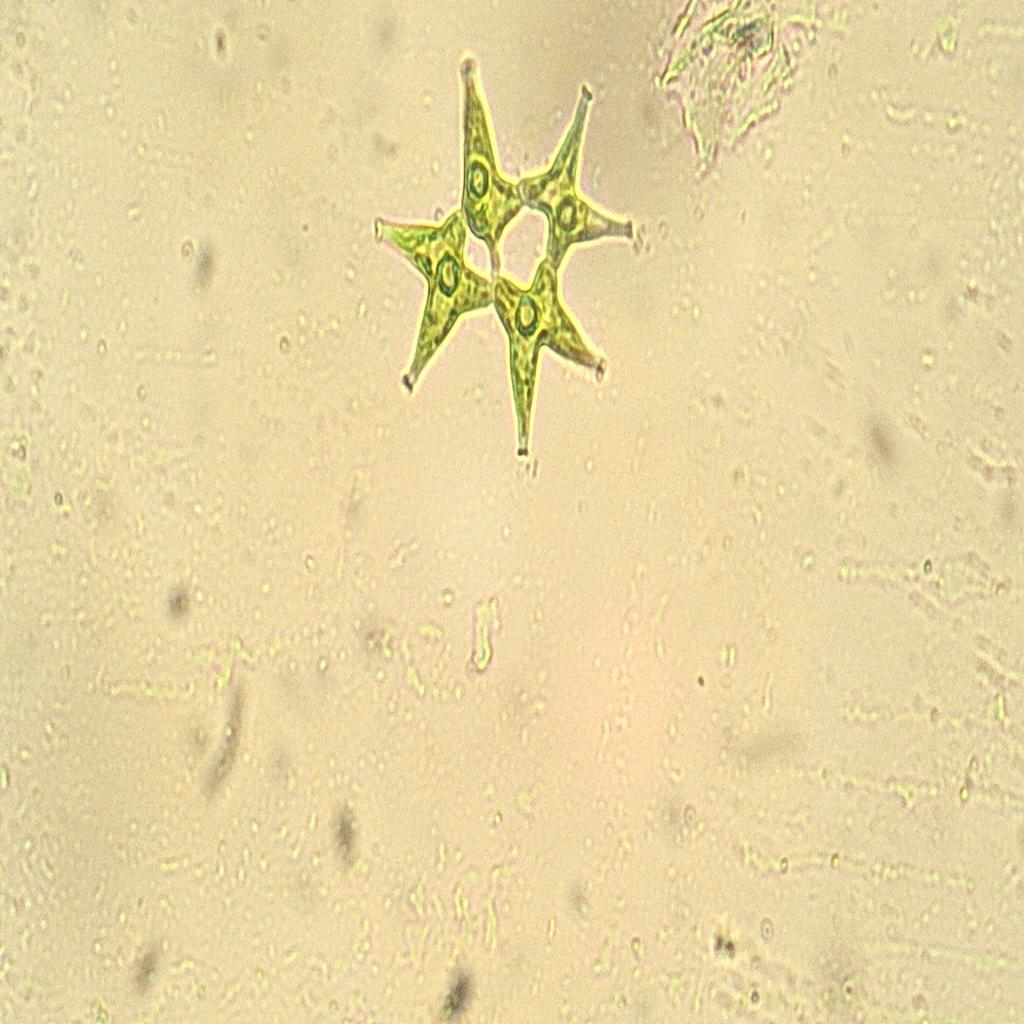Pediastrum_75FO: (356, 52, 655, 474)
